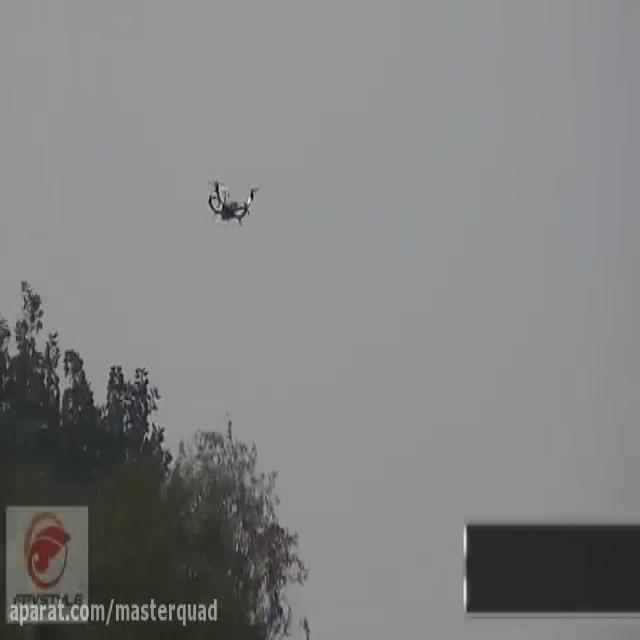drone: (203, 171, 264, 229)
